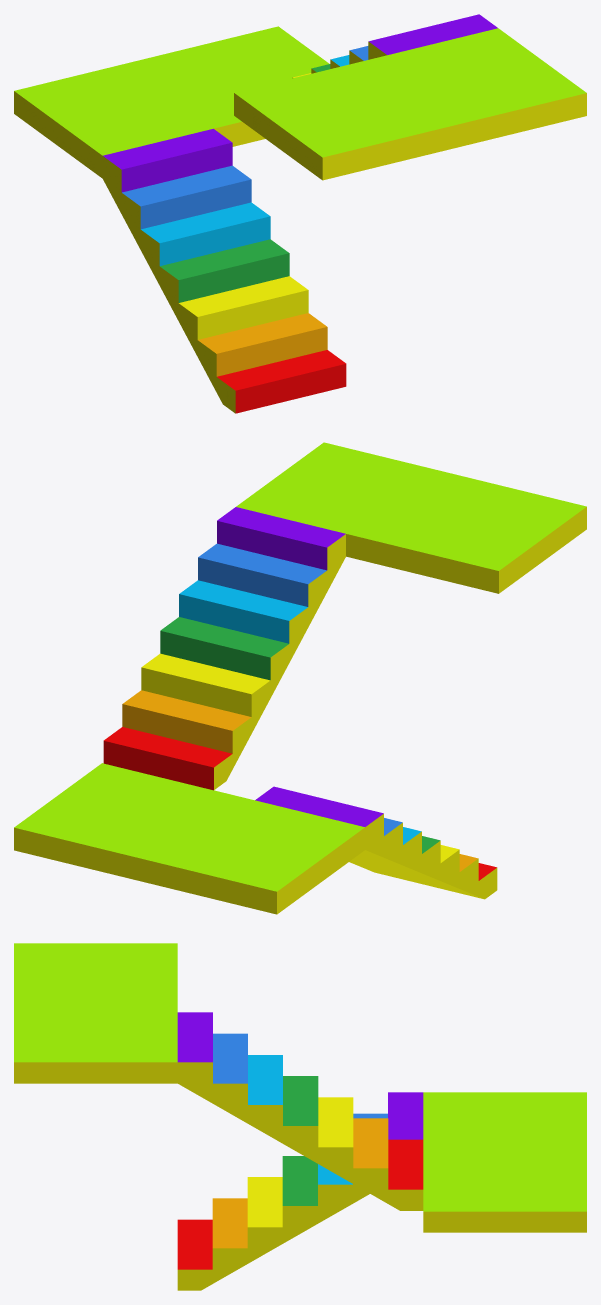
Rendered from Lader3.fbx.
The picture shows the model from 3 angles, top to bottom: view 1: azimuth 30°, elevation 25°; view 2: azimuth 150°, elevation 25°; view 3: azimuth 270°, elevation 25°; orthographic projection. The views are drawn at different scales.
Parts seen in each view (by area): view 1: Lader3; view 2: Lader3; view 3: Lader3.
Part boxes in pixels (x1=…): Lader3: x1=14, y1=14, x2=586, y2=413; Lader3: x1=14, y1=442, x2=586, y2=914; Lader3: x1=14, y1=943, x2=586, y2=1290.
Bounding box in the file's own units: 12.13 × 14 × 24.49.
